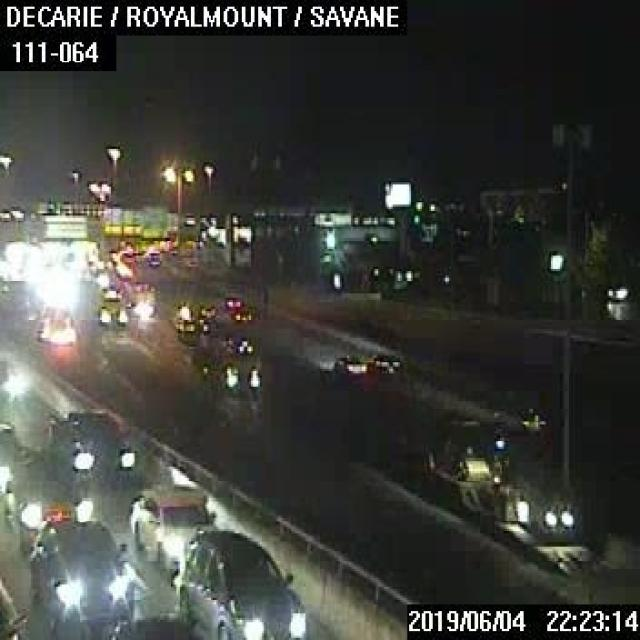vehicle: (174, 527, 308, 638), (30, 518, 130, 622), (4, 452, 93, 550), (129, 485, 220, 579), (45, 409, 132, 483), (502, 402, 545, 429), (333, 351, 365, 376), (373, 349, 405, 373)
